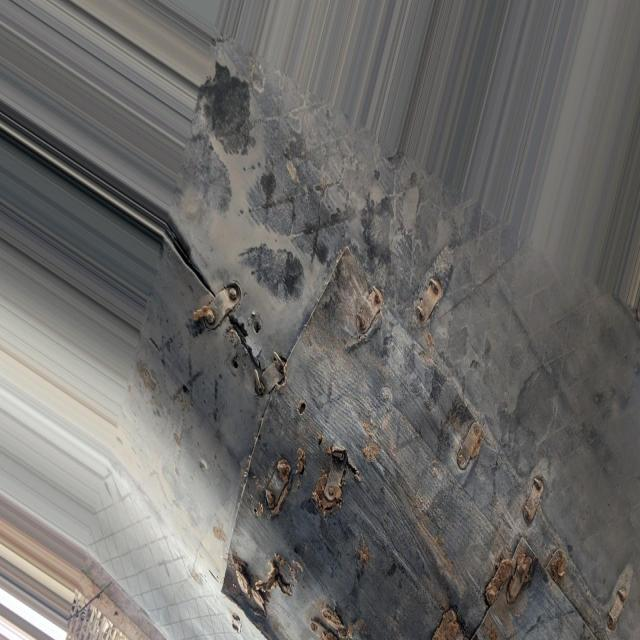patch work: (168, 240, 640, 640)
